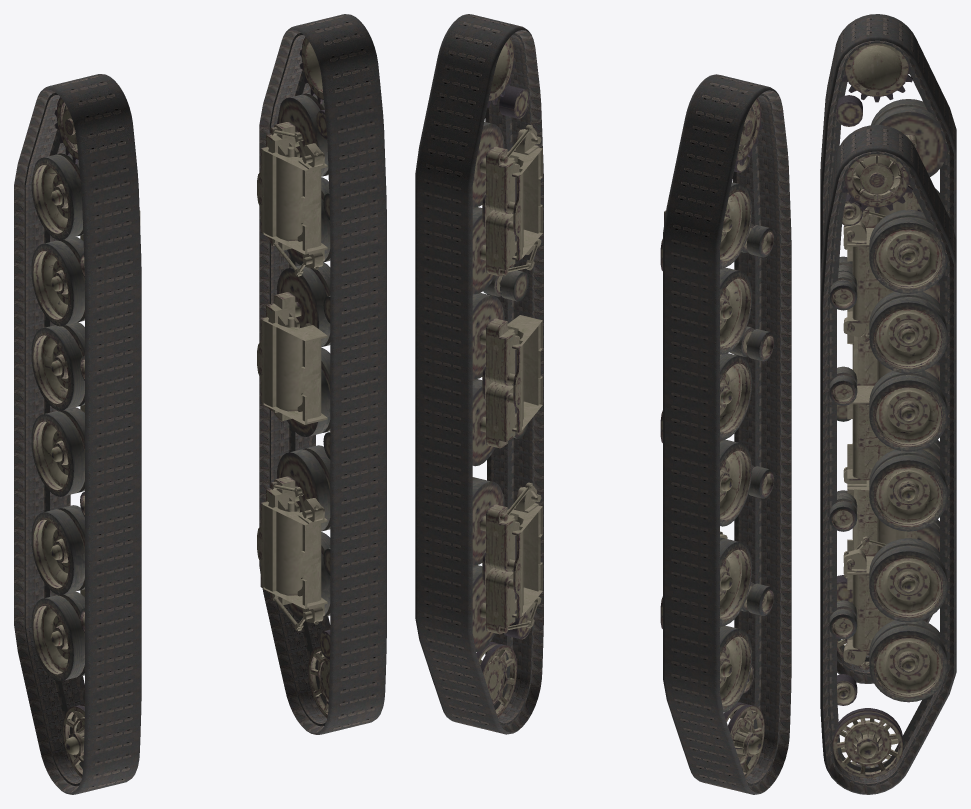
The model's file is Chassis.glb.
3 renders of one model, left to right at view 1: azimuth 30°, elevation 25°; view 2: azimuth 150°, elevation 25°; view 3: azimuth 270°, elevation 25°, orthographic. The views are drawn at different scales.
Parts seen in each view (by area): view 1: set_0_group_0, set_1_group_0, set_3_group_0, set_2_group_0; view 2: set_0_group_0, set_1_group_0, set_3_group_0, set_2_group_0; view 3: set_3_group_0, set_1_group_0, set_2_group_0, set_0_group_0.
Boxes of the visible parts, <box> form: set_0_group_0: <box>14,74,141,794</box>; set_1_group_0: <box>259,14,386,734</box>; set_3_group_0: <box>257,37,330,717</box>; set_2_group_0: <box>31,97,140,777</box>; set_0_group_0: <box>663,74,791,794</box>; set_1_group_0: <box>415,14,543,734</box>; set_3_group_0: <box>472,37,542,717</box>; set_2_group_0: <box>660,98,774,777</box>; set_3_group_0: <box>829,154,947,777</box>; set_1_group_0: <box>820,125,956,794</box>; set_2_group_0: <box>830,43,947,666</box>; set_0_group_0: <box>820,14,956,683</box>.
Size of the model in its own units: 3.25 by 7.19 by 1.38.
4 materials, 4 textured.
